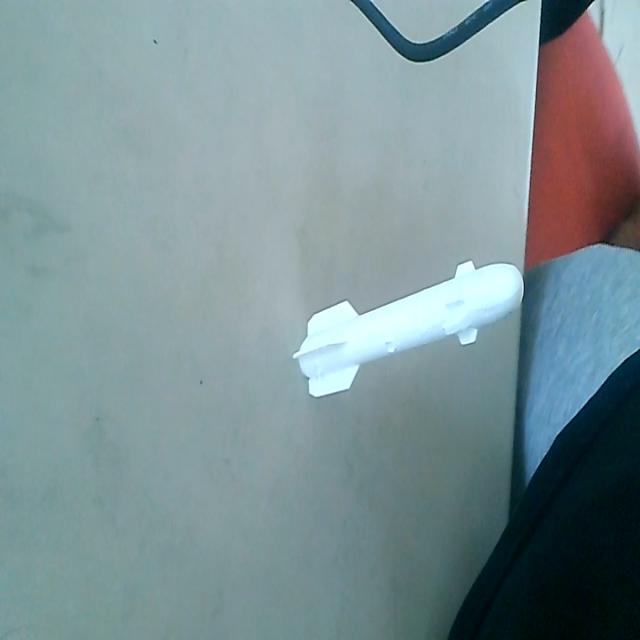Rocket: (292, 256, 528, 407)
